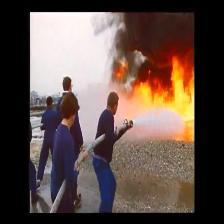fire: (133, 80, 191, 109)
smoke: (124, 15, 194, 71)
